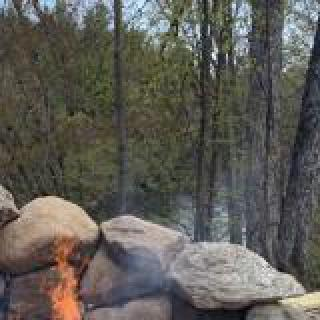fire: (40, 238, 128, 320)
